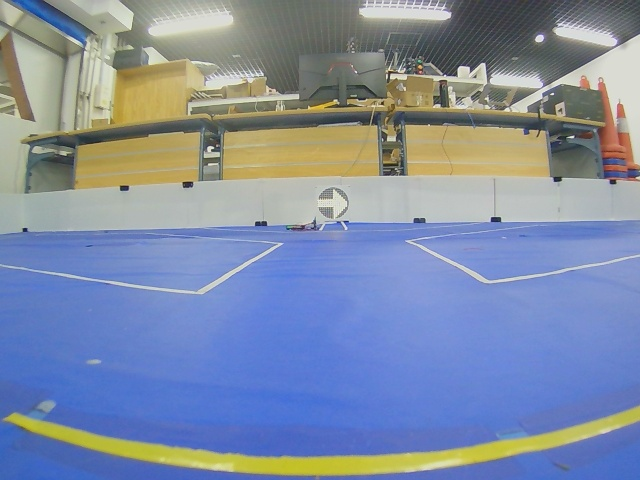right_yellow: (317, 187, 349, 221)
